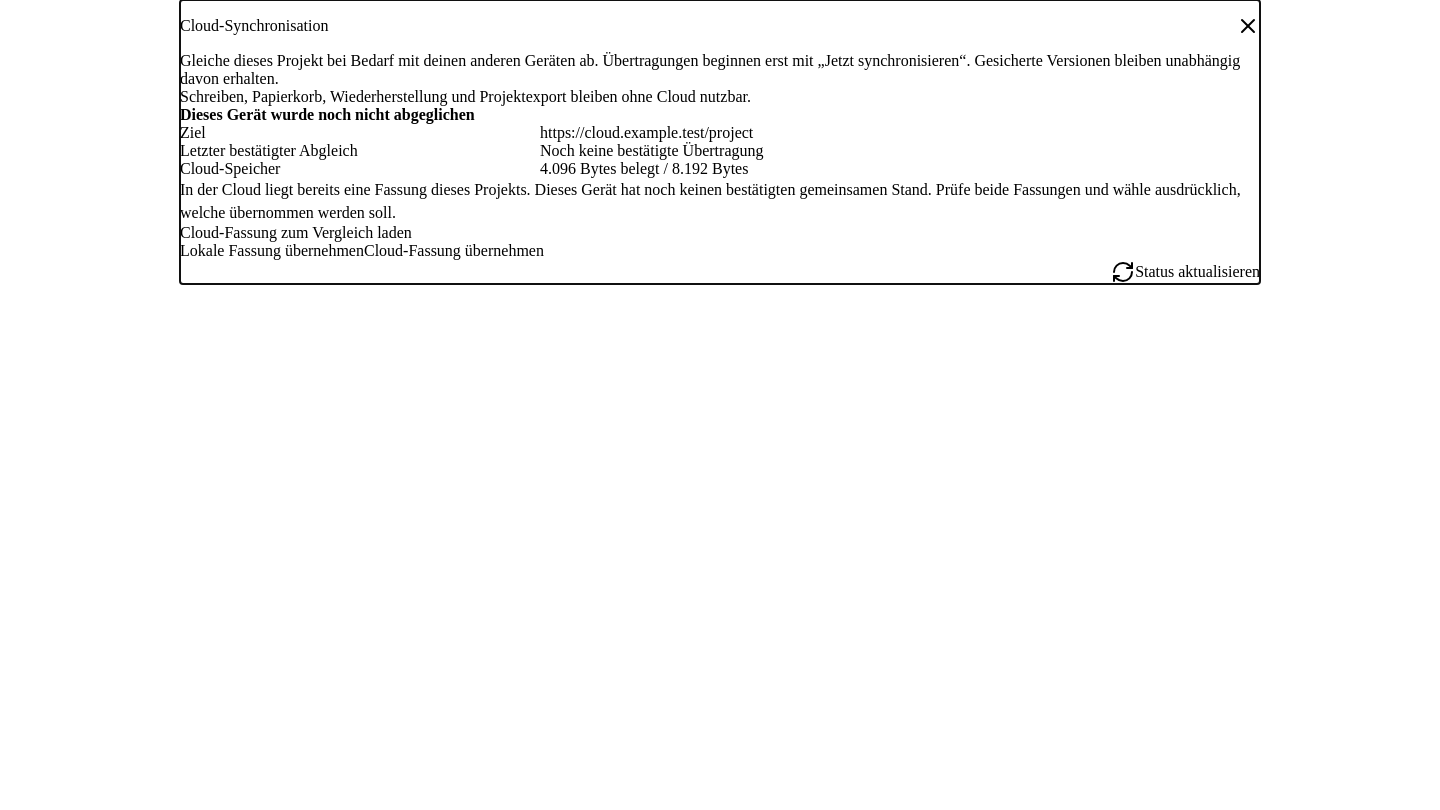
Test: CloudDialog › offers an explicit reviewed choice when this device has no shared baseline
expect the text "Dieses Gerät wurde noch nicht abgeglichen" is shown: met, box [180,106,475,123]
expect the button "Cloud-Fassung übernehmen" is disabled: met, box [364,242,544,260]
Click the button "Cloud-Fassung zum Vergleich laden" at [296, 233], box [180,224,412,242]
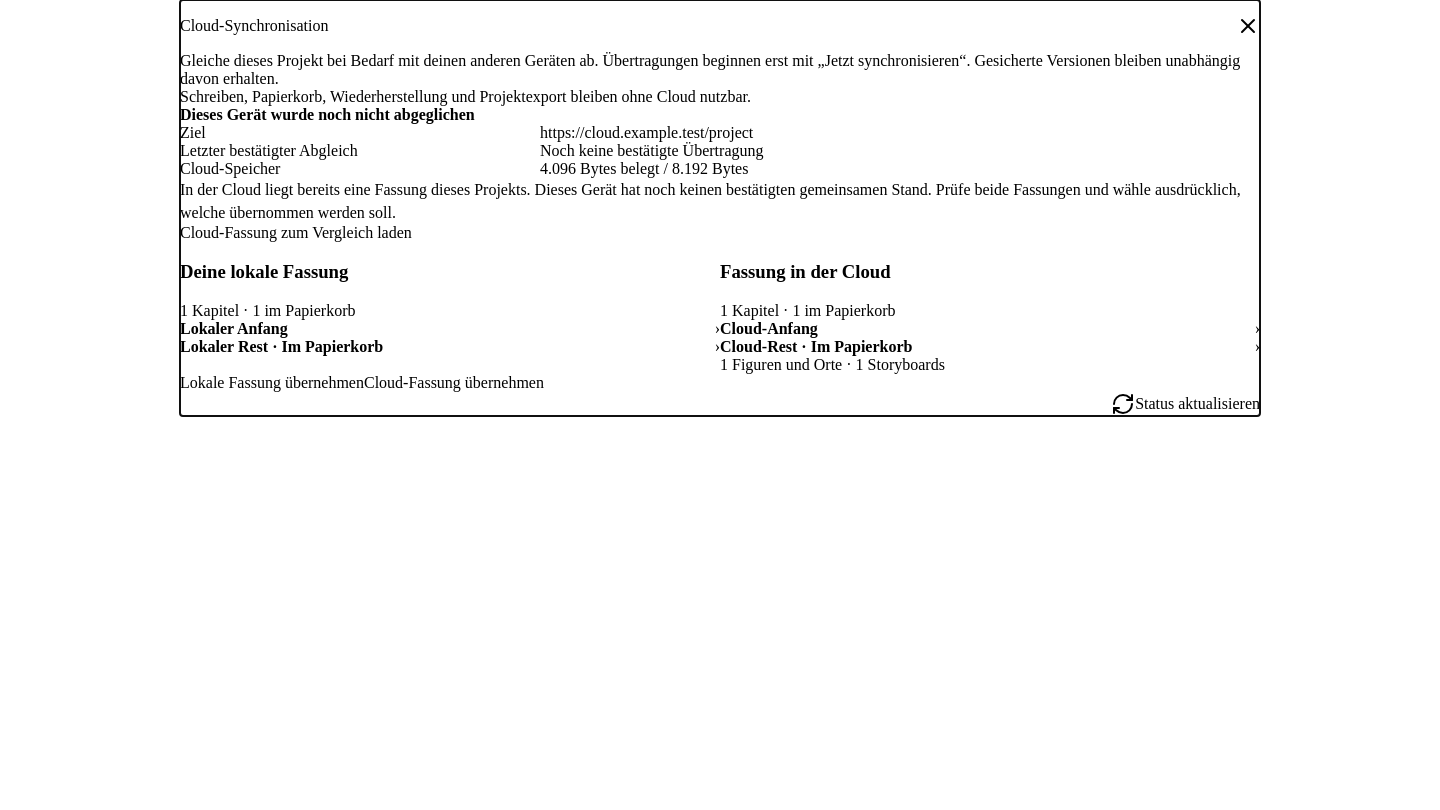
expect the button "Cloud-Fassung übernehmen" is enabled: met, box [364,374,544,392]
